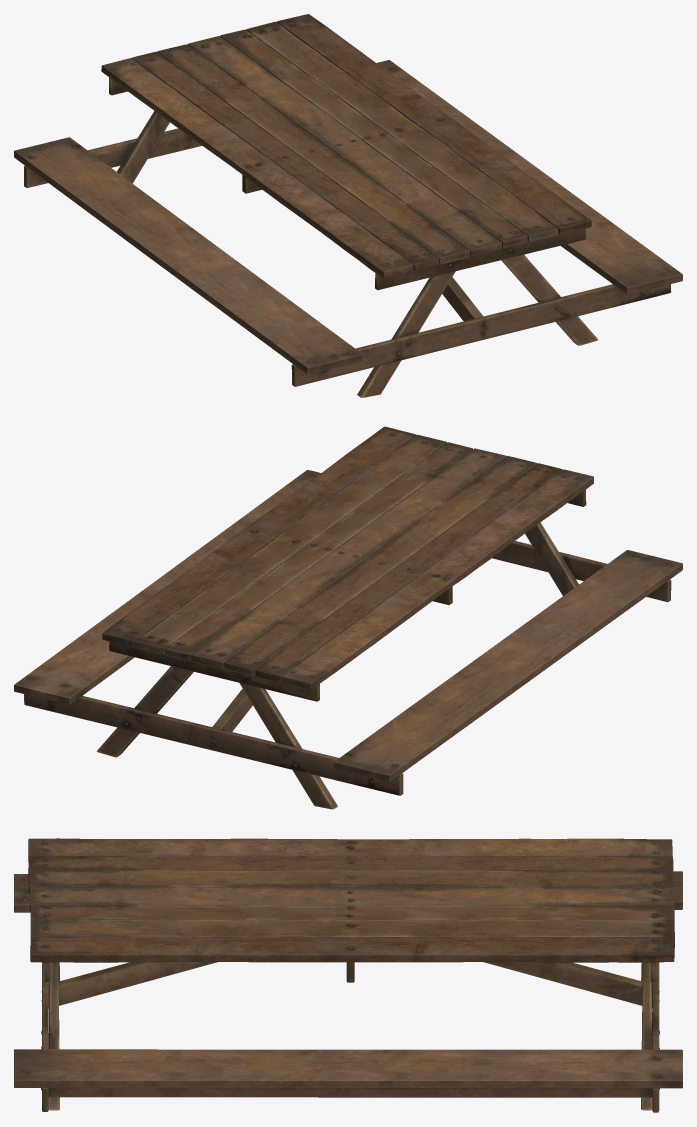
Rendered from wooden_picnic_table.glb.
The picture shows the model from 3 angles, top to bottom: view 1: azimuth 30°, elevation 25°; view 2: azimuth 150°, elevation 25°; view 3: azimuth 270°, elevation 25°; orthographic projection. The views are drawn at different scales.
Parts seen in each view (by area): view 1: wooden_picnic_table; view 2: wooden_picnic_table; view 3: wooden_picnic_table.
Part boxes in pixels (x1,y1,x2,y2): wooden_picnic_table: (14,14,682,397); wooden_picnic_table: (14,426,682,809); wooden_picnic_table: (14,838,682,1112).
Bounding box in the file's own units: 2.24 × 0.746 × 3.02.
Materials: 2 (2 with a texture image).
